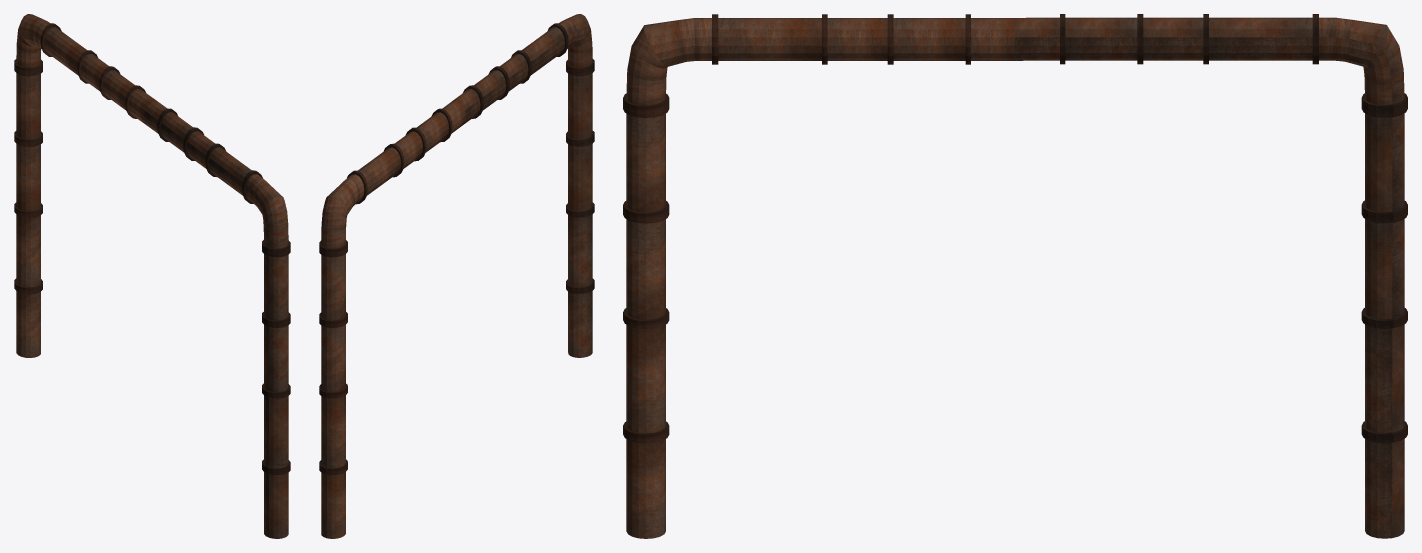
Rendered from tubulaçaogaragem.fbx.
The picture shows the model from 3 angles, left to right: view 1: azimuth 30°, elevation 25°; view 2: azimuth 150°, elevation 25°; view 3: azimuth 270°, elevation 25°; orthographic projection. The views are drawn at different scales.
Parts seen in each view (by area): view 1: Cylinder; view 2: Cylinder; view 3: Cylinder.
Part boxes in pixels (x1,y1,x2,y2): Cylinder: (14, 14, 290, 538); Cylinder: (319, 14, 594, 538); Cylinder: (623, 14, 1407, 538).
Bounding box in the file's own units: 44.37 × 584 × 805.
Materials: 2 (2 with a texture image).
